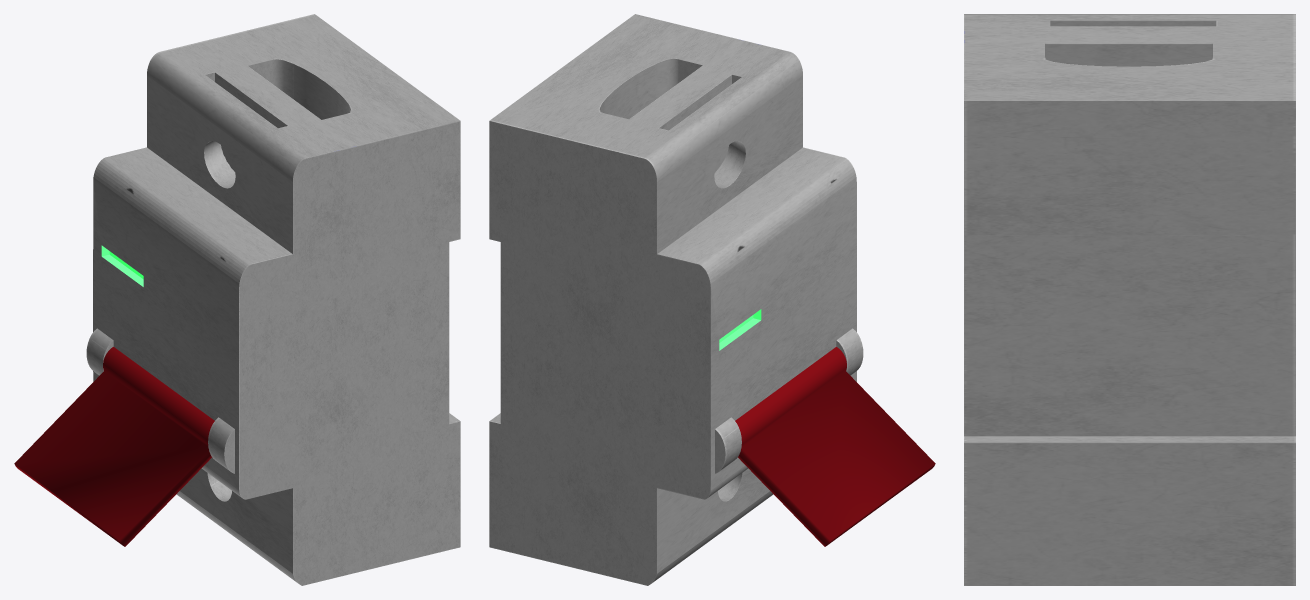
Rendered from breaker2.fbx.
The picture shows the model from 3 angles, left to right: view 1: azimuth 30°, elevation 25°; view 2: azimuth 150°, elevation 25°; view 3: azimuth 270°, elevation 25°; orthographic projection. The views are drawn at different scales.
Parts seen in each view (by area): view 1: Sigortadenemeicsigfbx, toggle; view 2: Sigortadenemeicsigfbx, toggle; view 3: Sigortadenemeicsigfbx.
Boxes of the visible parts, x1,y1,x2,y2 form: Sigortadenemeicsigfbx: (86,14,460,585); toggle: (14,347,214,546); Sigortadenemeicsigfbx: (489,14,863,585); toggle: (735,347,935,546); Sigortadenemeicsigfbx: (964,14,1295,585).
Bounding box in the file's own units: 30.08 × 38.19 × 23.69.
